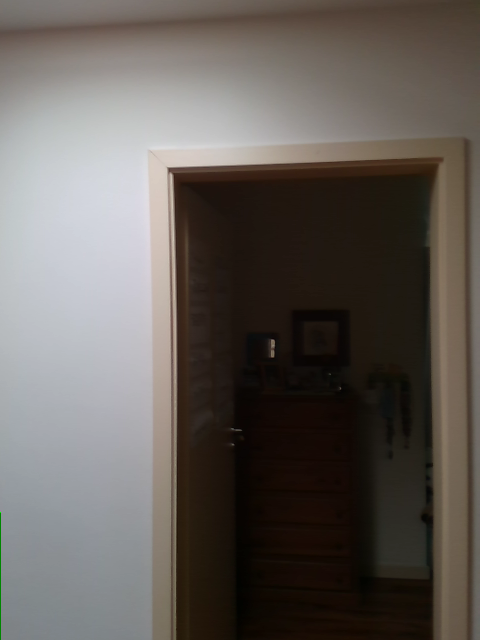open: (145, 138, 472, 639)
